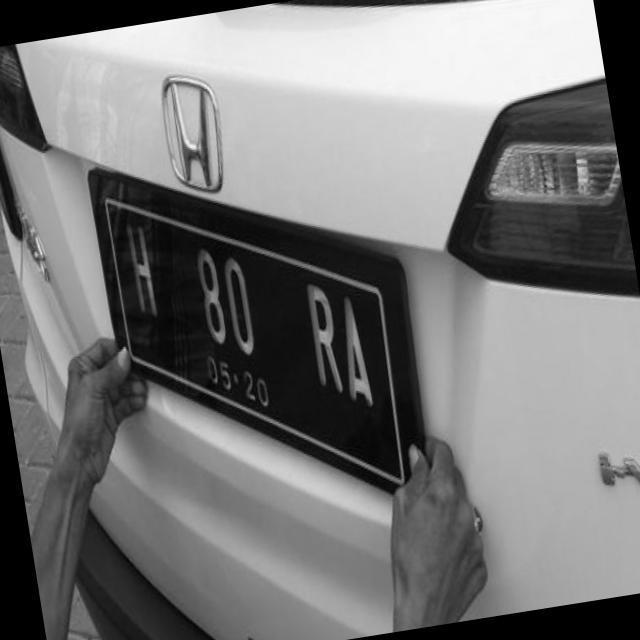0: (215, 253, 272, 357)
8: (180, 238, 230, 364)
A: (331, 294, 386, 416)
H: (102, 210, 173, 329)
R: (290, 274, 344, 406)
